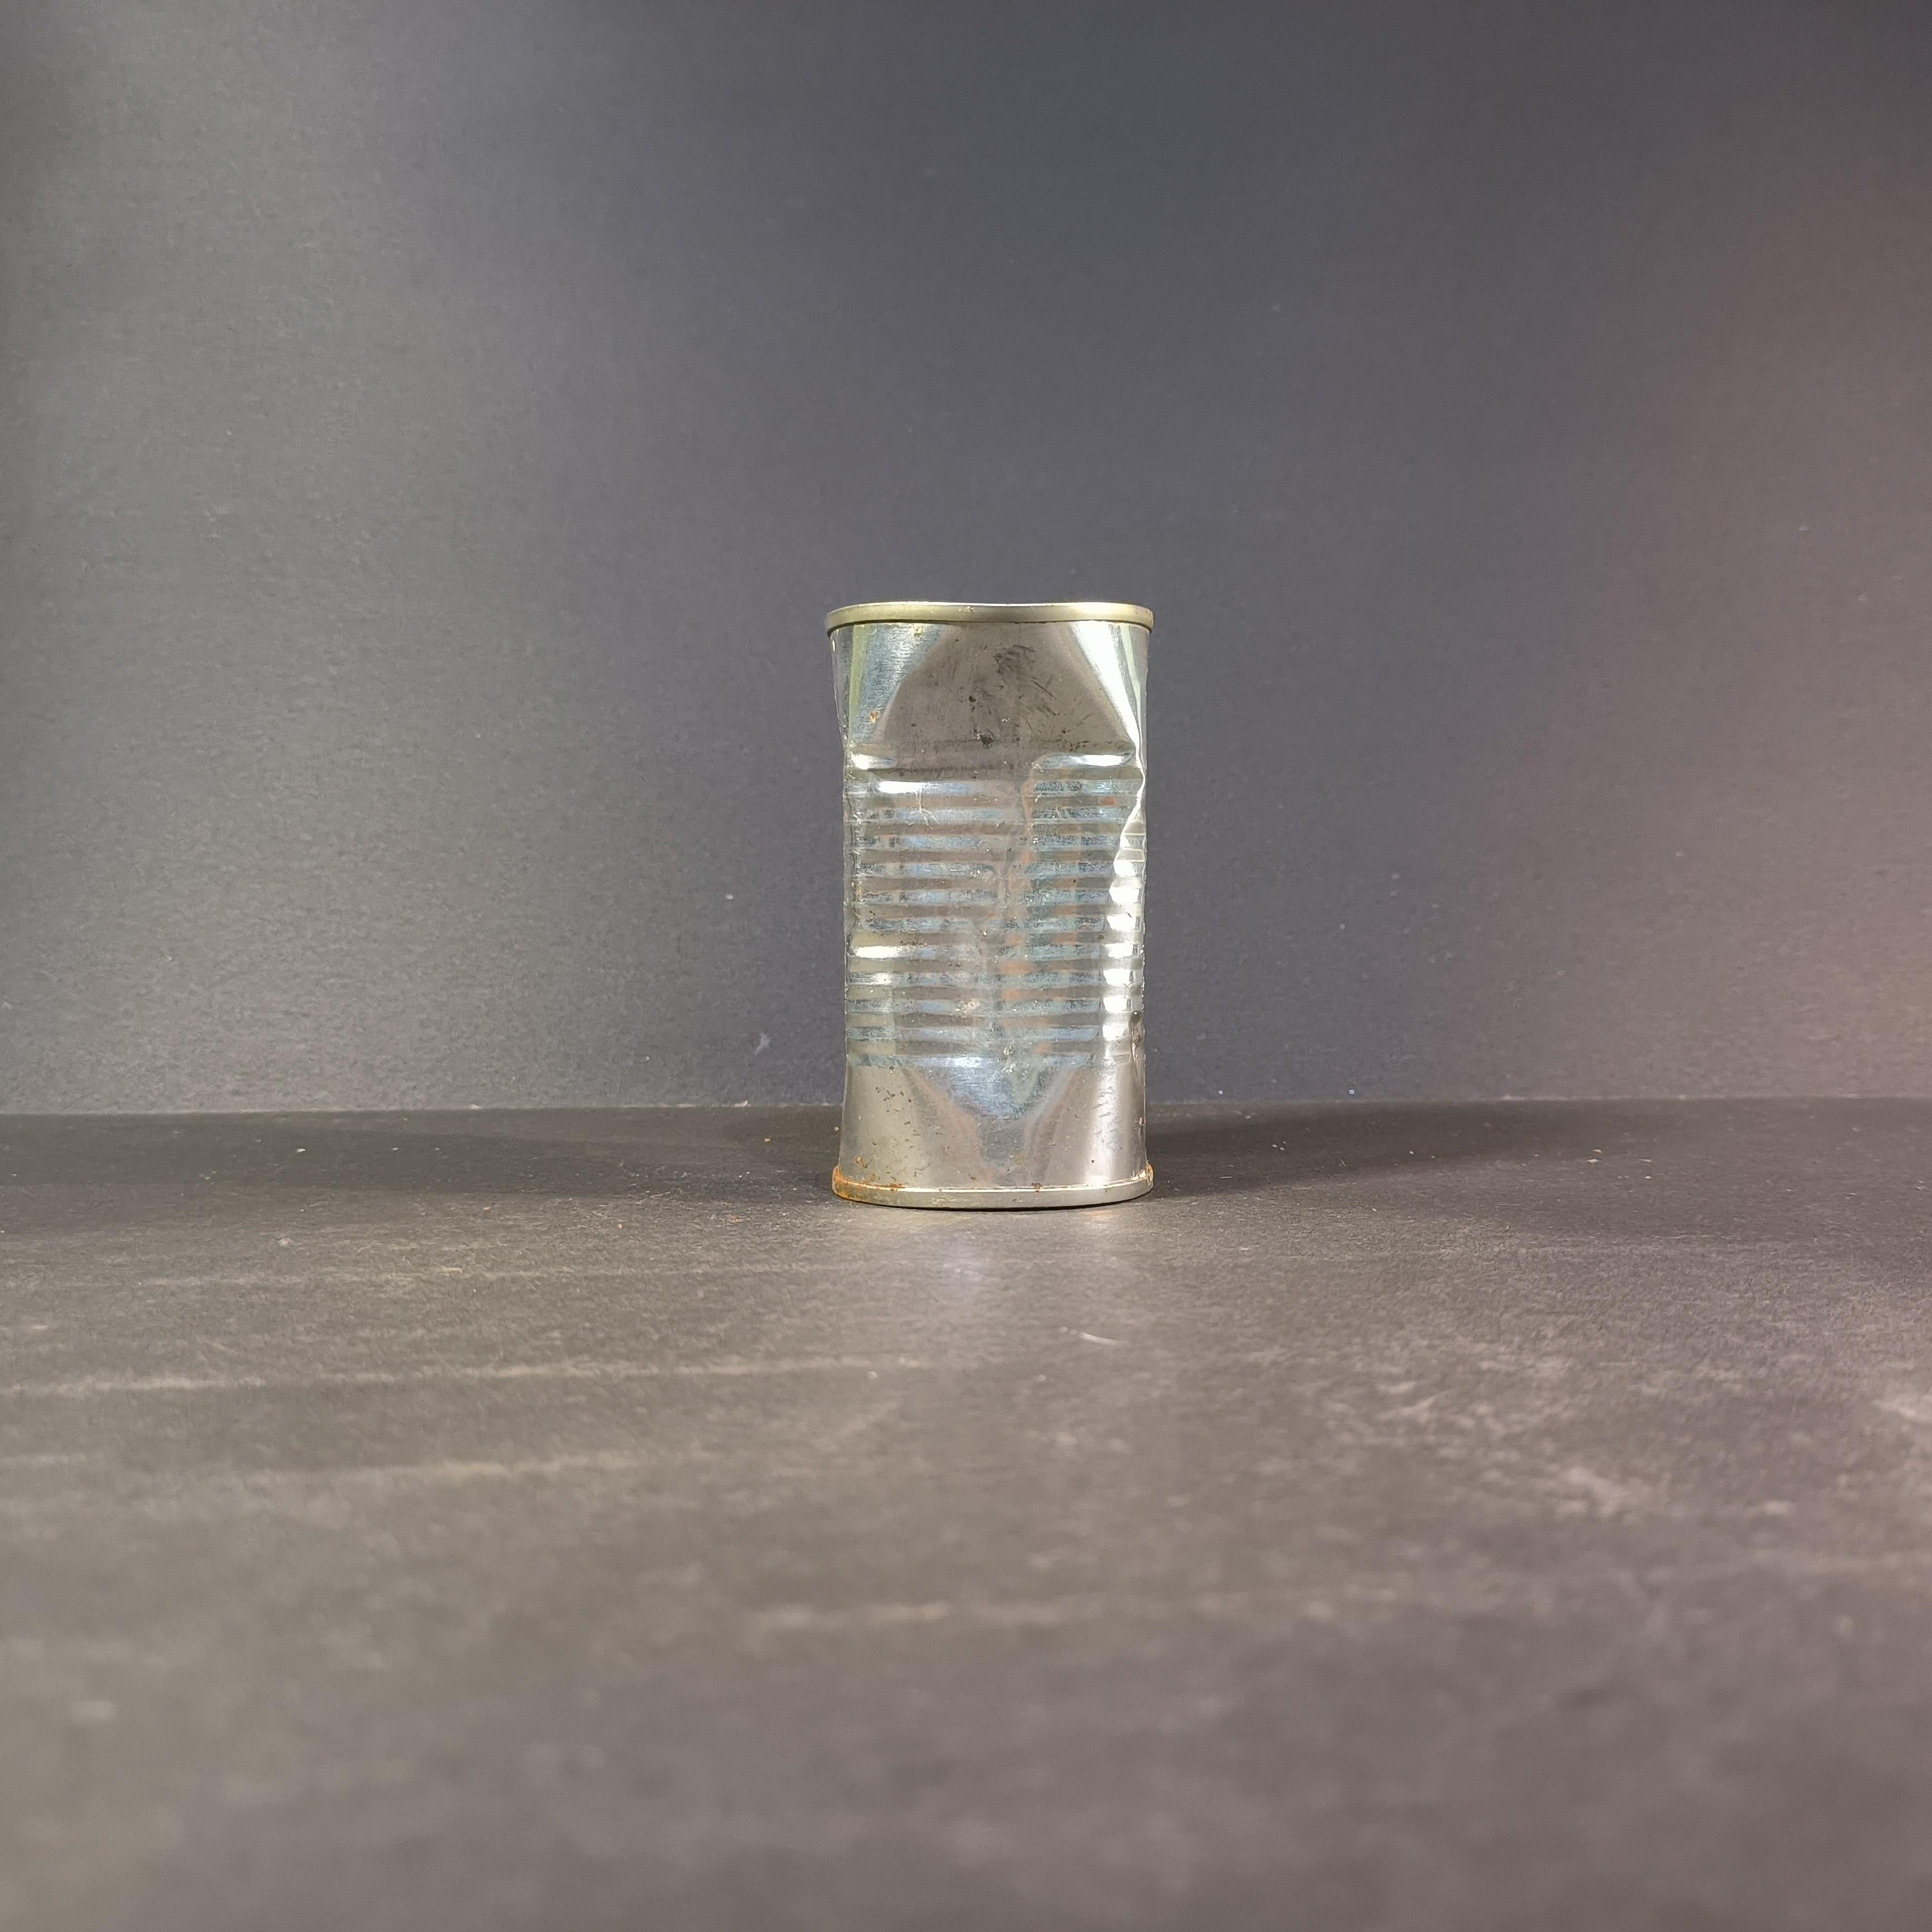Dented: (796, 563, 1201, 1238)
